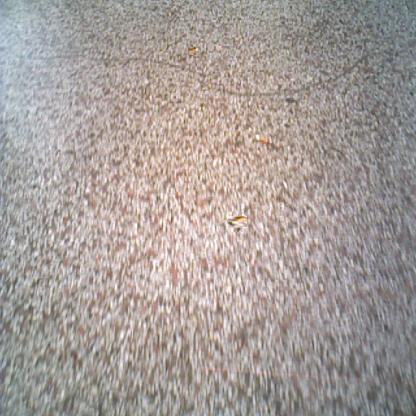dirty: (229, 214, 245, 230), (254, 134, 268, 146), (188, 47, 200, 55)
